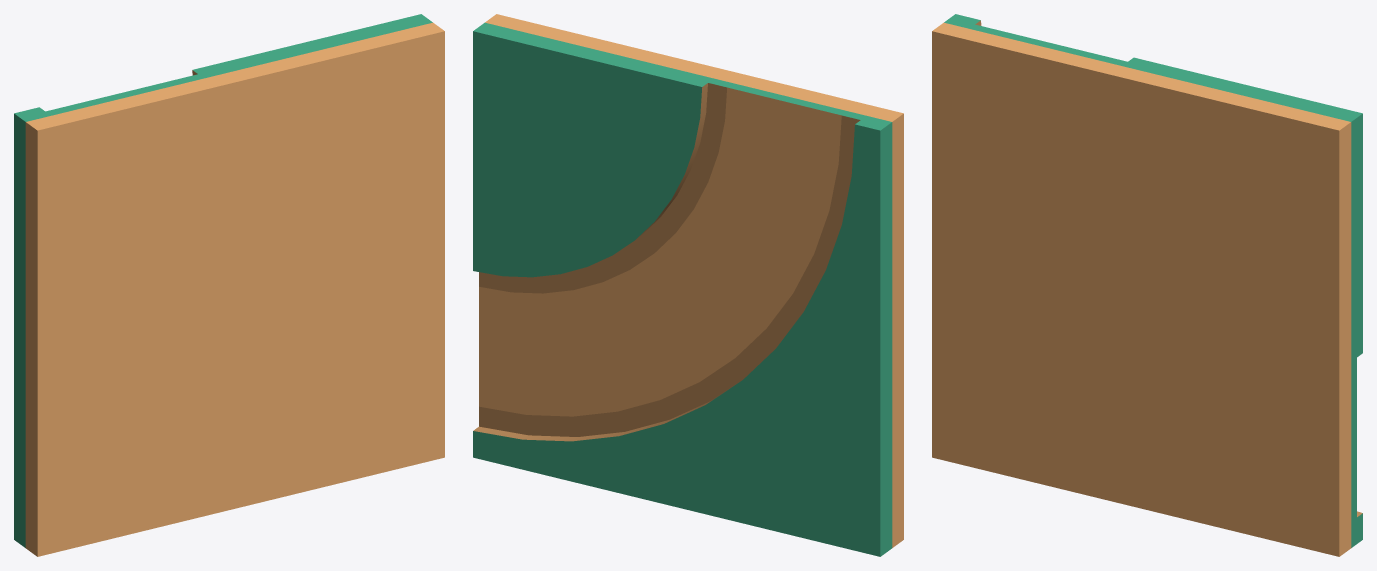
Rendered from tile_cornerLarge.002.obj.
3 views of the same model, side by side, from view 1: azimuth 30°, elevation 25°; view 2: azimuth 150°, elevation 25°; view 3: azimuth 330°, elevation 25° (orthographic).
Visible parts, largest first — view 1: tile_cornerLarge.002; view 2: tile_cornerLarge.002; view 3: tile_cornerLarge.002.
Part boxes in pixels (box(x1,y1,x2,y2)): tile_cornerLarge.002: box(14, 14, 444, 556); tile_cornerLarge.002: box(473, 14, 903, 556); tile_cornerLarge.002: box(932, 14, 1362, 556).
Size of the model in its own units: 2 by 2 by 0.2.
